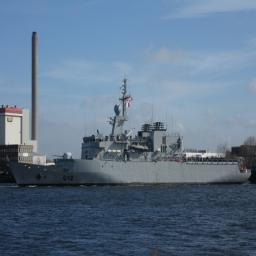Fragata: (5, 76, 254, 190)
